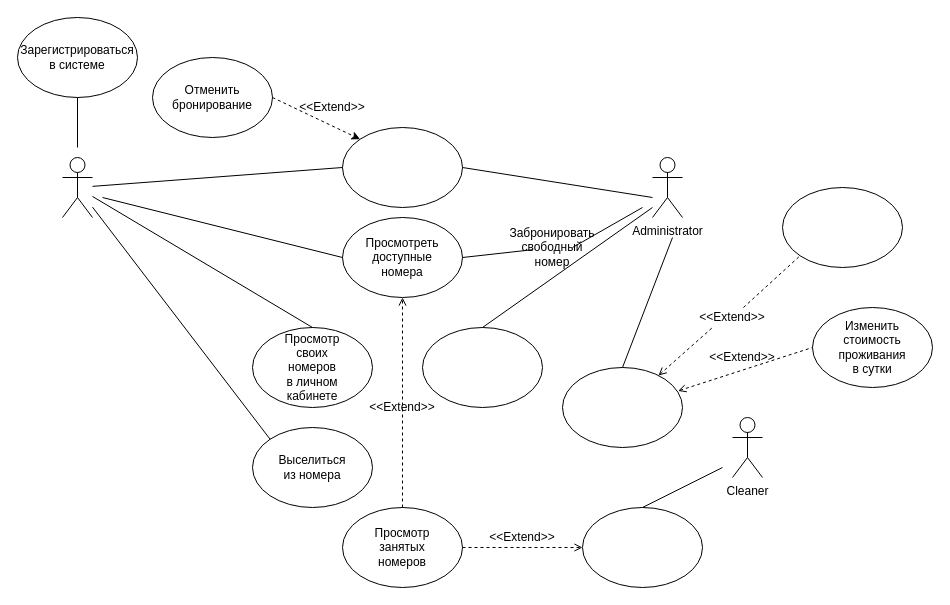
This 950x605 diagram has some shape labels left out. Each missing label, with the centre of its shape:
"User" belongs at point (77, 187).
"Изменить кол-во дней" belongs at point (842, 227).
"Освобождение номера в системе" belongs at point (482, 367).
"Перерассчитать стоимость проживания клиента" belongs at point (622, 407).
"Посмотреть освободившиеся номера" belongs at point (642, 547).
